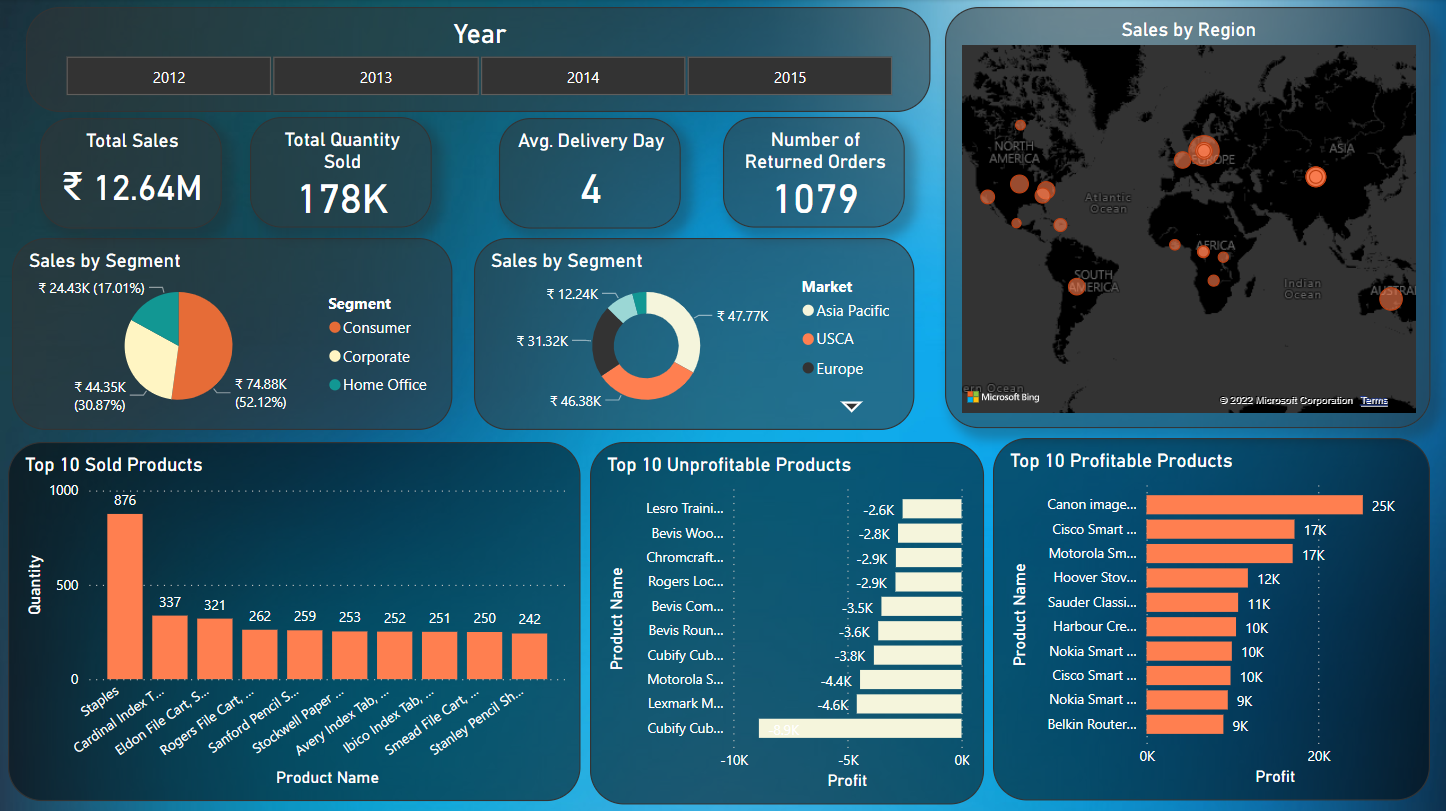

What the dashboard file says about the page in this screenshot:
{"tool":"powerbi","page":{"name":"Page 1","canvas":[1280,720],"ordinal":0},"visuals":[{"type":"slicer","title":"Year","fields":{"Values":["Orders.Year"]},"box":[23.3,6.8,801.5,93.4],"z":1000},{"type":"map","fields":{"Size":["Sum(Orders.Sales)"],"Category":["Orders.Region"]},"box":[836.5,6.8,429.9,372.5],"z":2000},{"type":"card","title":"Number of Returned Orders","fields":{"Values":["CountNonNull(Returns.Return Number)"]},"box":[640,104.1,161.5,98.2],"z":5000},{"type":"barChart","title":"Top 10 Profitable Products","fields":{"Category":["Orders.Product Name"],"Y":["Sum(Orders.Profit)"]},"box":[879.3,389.1,387.1,321],"z":6000},{"type":"barChart","title":"Top 10 Unprofitable Products","fields":{"Category":["Orders.Product Name"],"Y":["Sum(Orders.Profit)"]},"box":[522.3,392,349.2,321],"z":7000},{"type":"pieChart","title":"Sales by Segment","fields":{"Category":["Orders.Segment"],"Y":["Sum(Orders.Sales)"]},"box":[10.7,212,390,170.2],"z":7001},{"type":"card","title":"Total Sales","fields":{"Values":["Sum(Orders.Sales)"]},"box":[35,105,161.5,98.2],"z":7002},{"type":"card","title":"Total Quantity Sold","fields":{"Values":["Sum(Orders.Quantity)"]},"box":[221.8,104.1,161.5,98.2],"z":7003},{"type":"card","title":"Avg. Delivery Day","fields":{"Values":["Avg(Orders.Delivery Days)"]},"box":[441.6,105,161.5,98.2],"z":7004},{"type":"donutChart","title":"Sales by Segment","fields":{"Category":["Orders.Market"],"Y":["Sum(Orders.Sales)"]},"box":[420.2,212,390,170.2],"z":7005},{"type":"columnChart","title":"Top 10 Sold Products","fields":{"Category":["Orders.Product Name"],"Y":["Sum(Orders.Quantity)"]},"box":[6.8,392,506.7,318.1],"z":7006}]}

Visuals, with their boxes in screenshot pixels (x1, y1, x2, y2), scaled from the page's 1280x720 canvas onto the 1446x811 screenshot:
"Year" slicer: (left=26, top=8, right=932, bottom=113)
map - Sum(Orders.Sales) x Orders.Region: (left=945, top=8, right=1431, bottom=427)
"Number of Returned Orders" card: (left=723, top=117, right=905, bottom=228)
"Top 10 Profitable Products" barChart: (left=993, top=438, right=1431, bottom=800)
"Top 10 Unprofitable Products" barChart: (left=590, top=442, right=985, bottom=803)
"Sales by Segment" pieChart: (left=12, top=239, right=453, bottom=431)
"Total Sales" card: (left=40, top=118, right=222, bottom=229)
"Total Quantity Sold" card: (left=251, top=117, right=433, bottom=228)
"Avg. Delivery Day" card: (left=499, top=118, right=681, bottom=229)
"Sales by Segment" donutChart: (left=475, top=239, right=915, bottom=431)
"Top 10 Sold Products" columnChart: (left=8, top=442, right=580, bottom=800)
